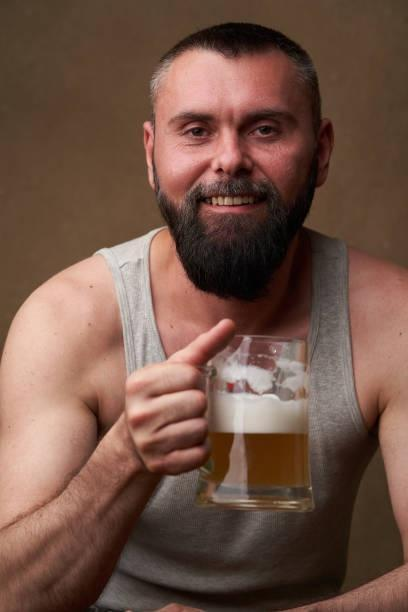glass-mug: (174, 331, 317, 513)
